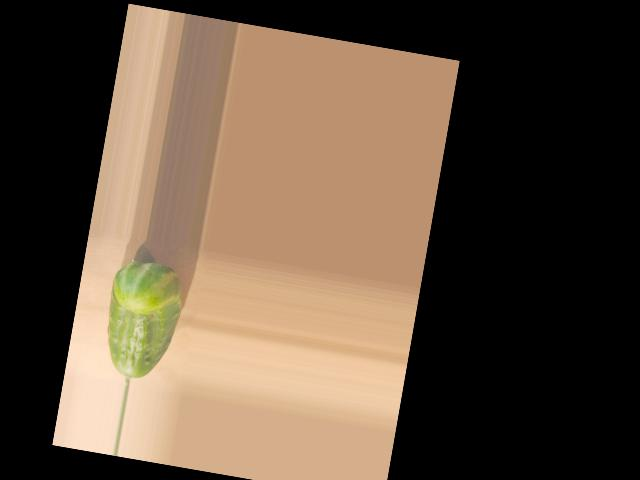cucumber: (96, 256, 187, 384)
